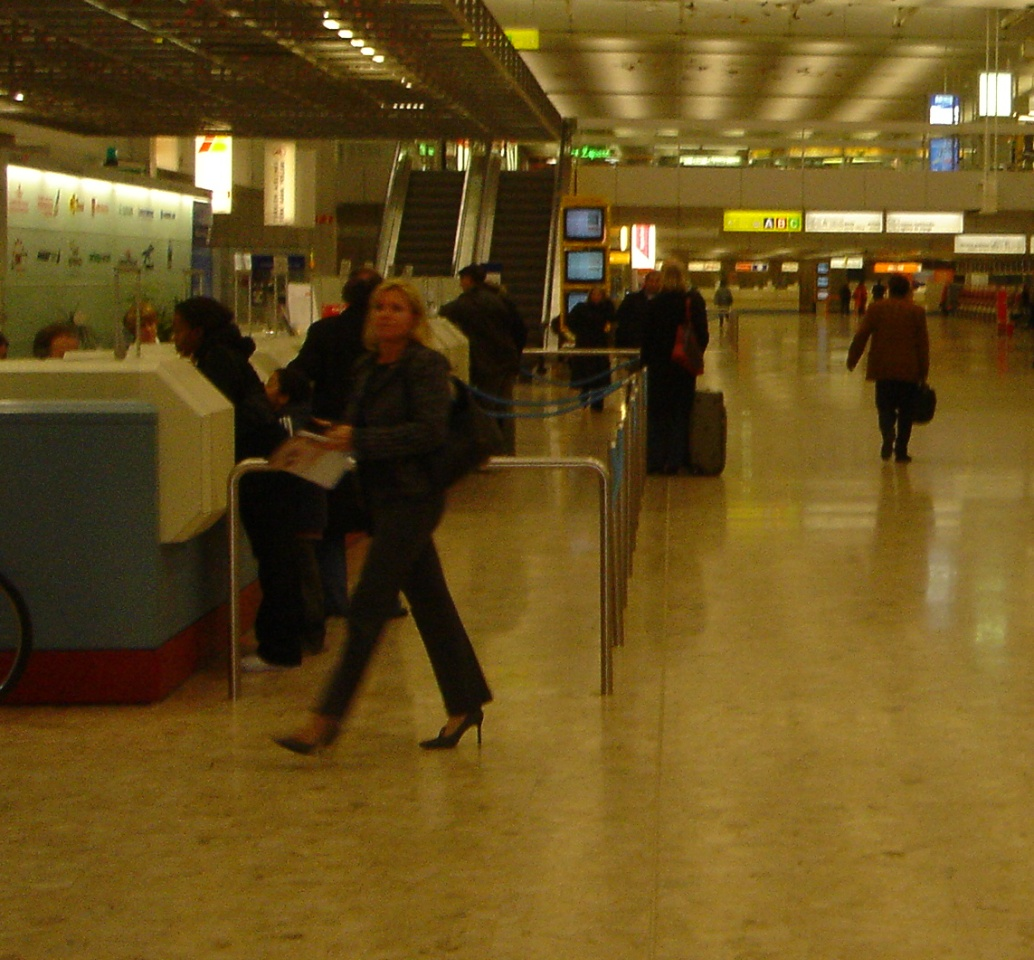person: (295, 278, 487, 756), (643, 259, 705, 472), (575, 282, 616, 412)
